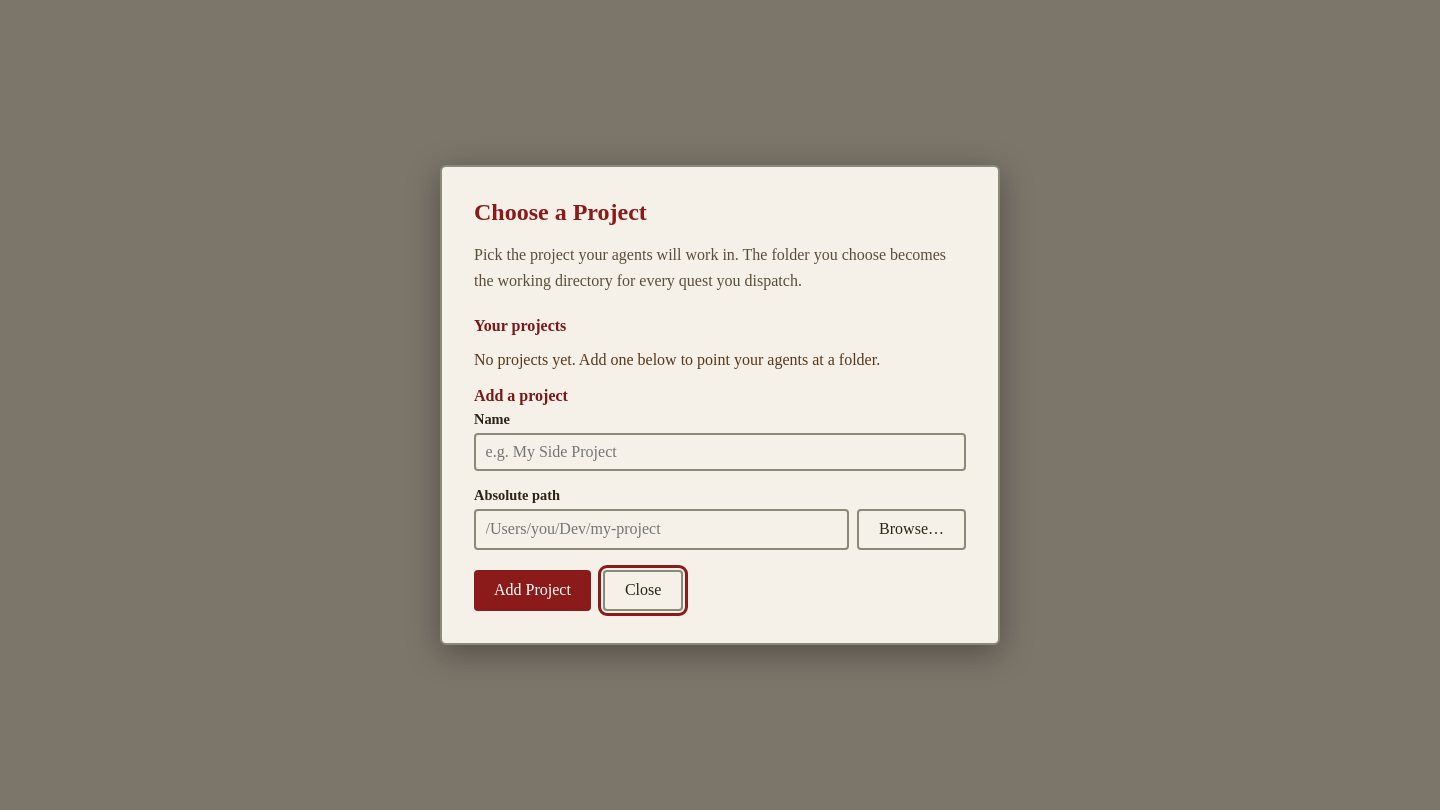
it: ProjectPickerModal › adding a project posts to api.projects.create, makes it active, and surfaces it
Expected: the text "No projects yet" is shown, x1=474 y1=351 x2=880 y2=368
Type "Brand New" into the field labelled "Name" at (720, 452), box x1=474 y1=433 x2=966 y2=471
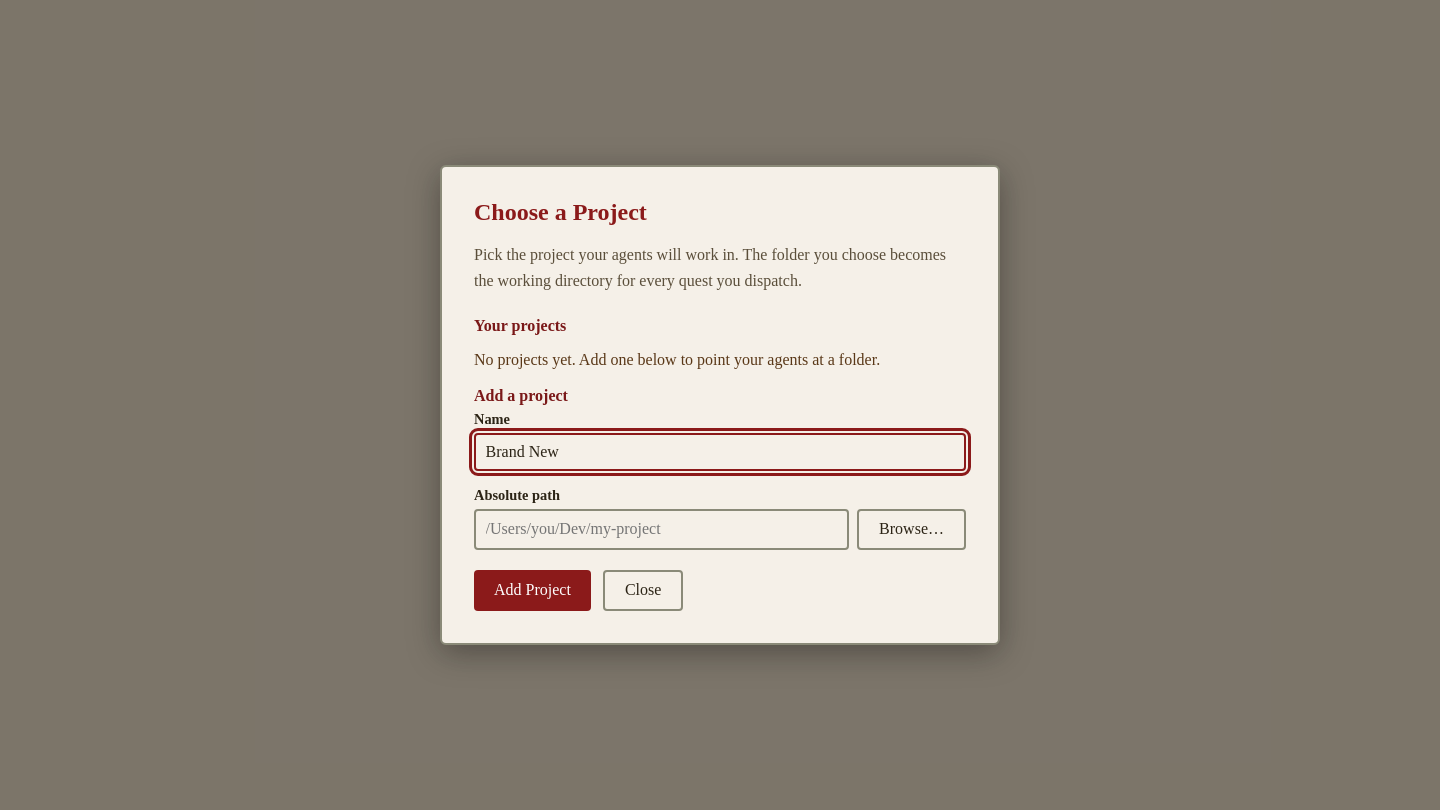
Type "/tmp/new" into the field labelled "Absolute path" at (662, 529), box x1=474 y1=509 x2=849 y2=550
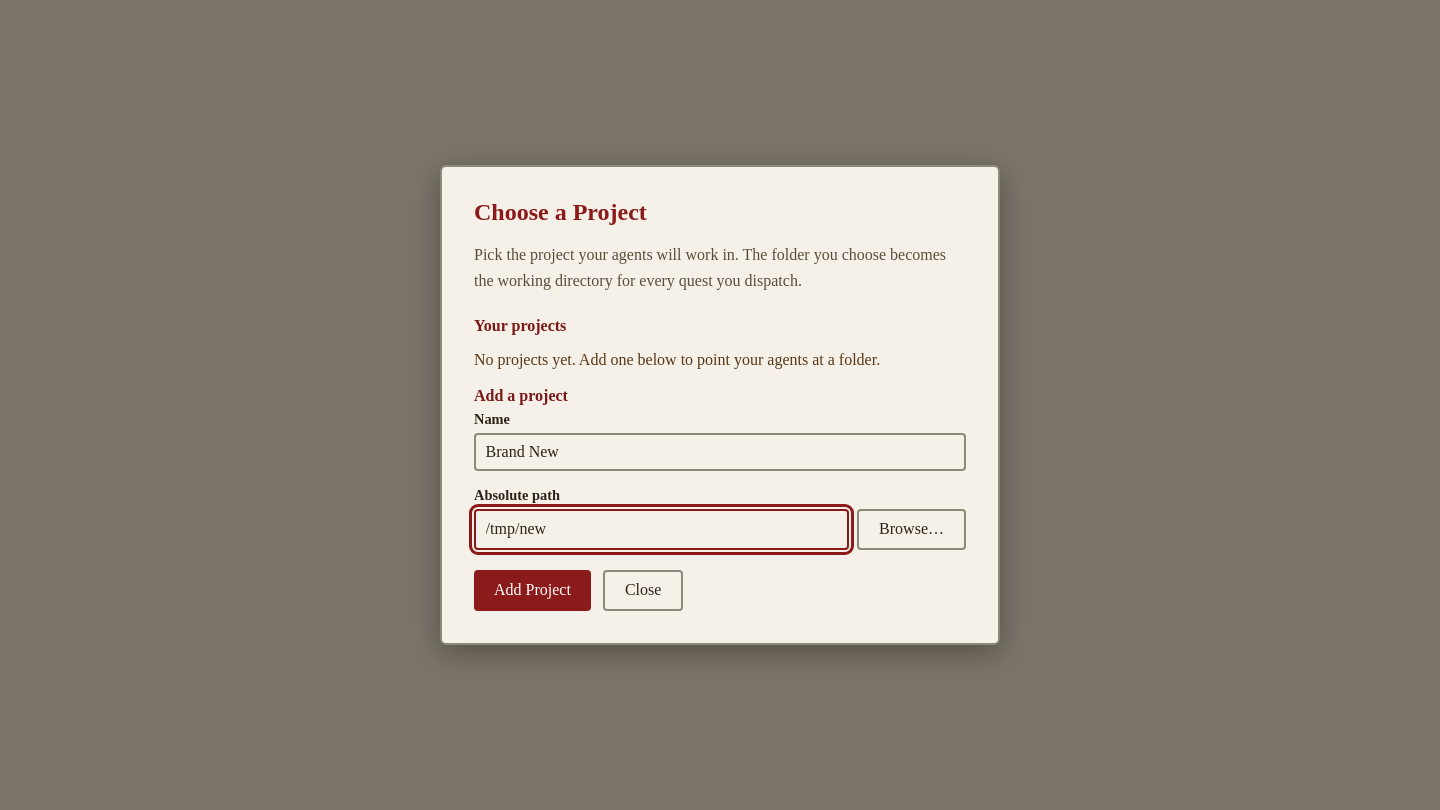
Click the button "Add Project" at (532, 590), box x1=474 y1=570 x2=591 y2=611
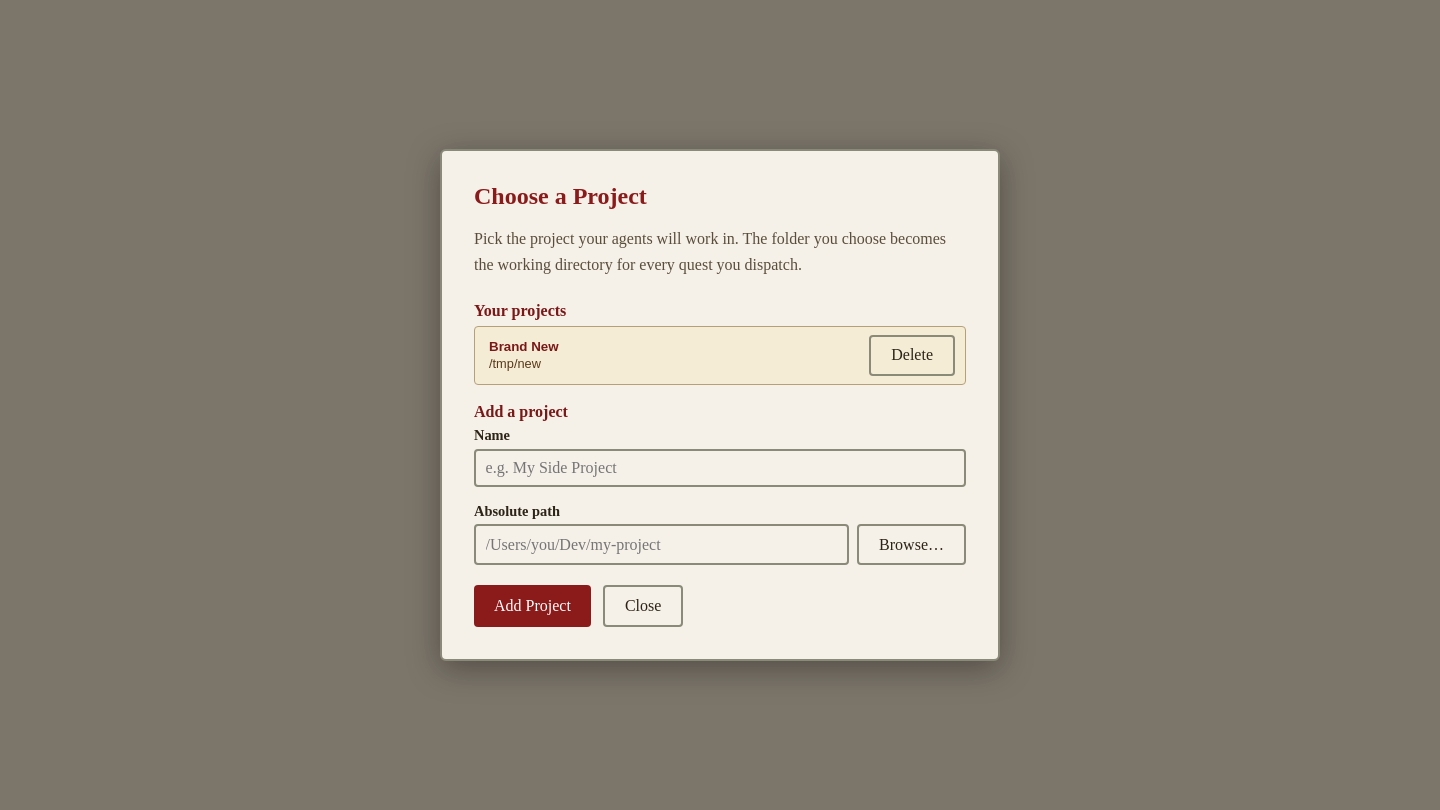
Expected: the text "Brand New" is shown, x1=489 y1=339 x2=559 y2=354
